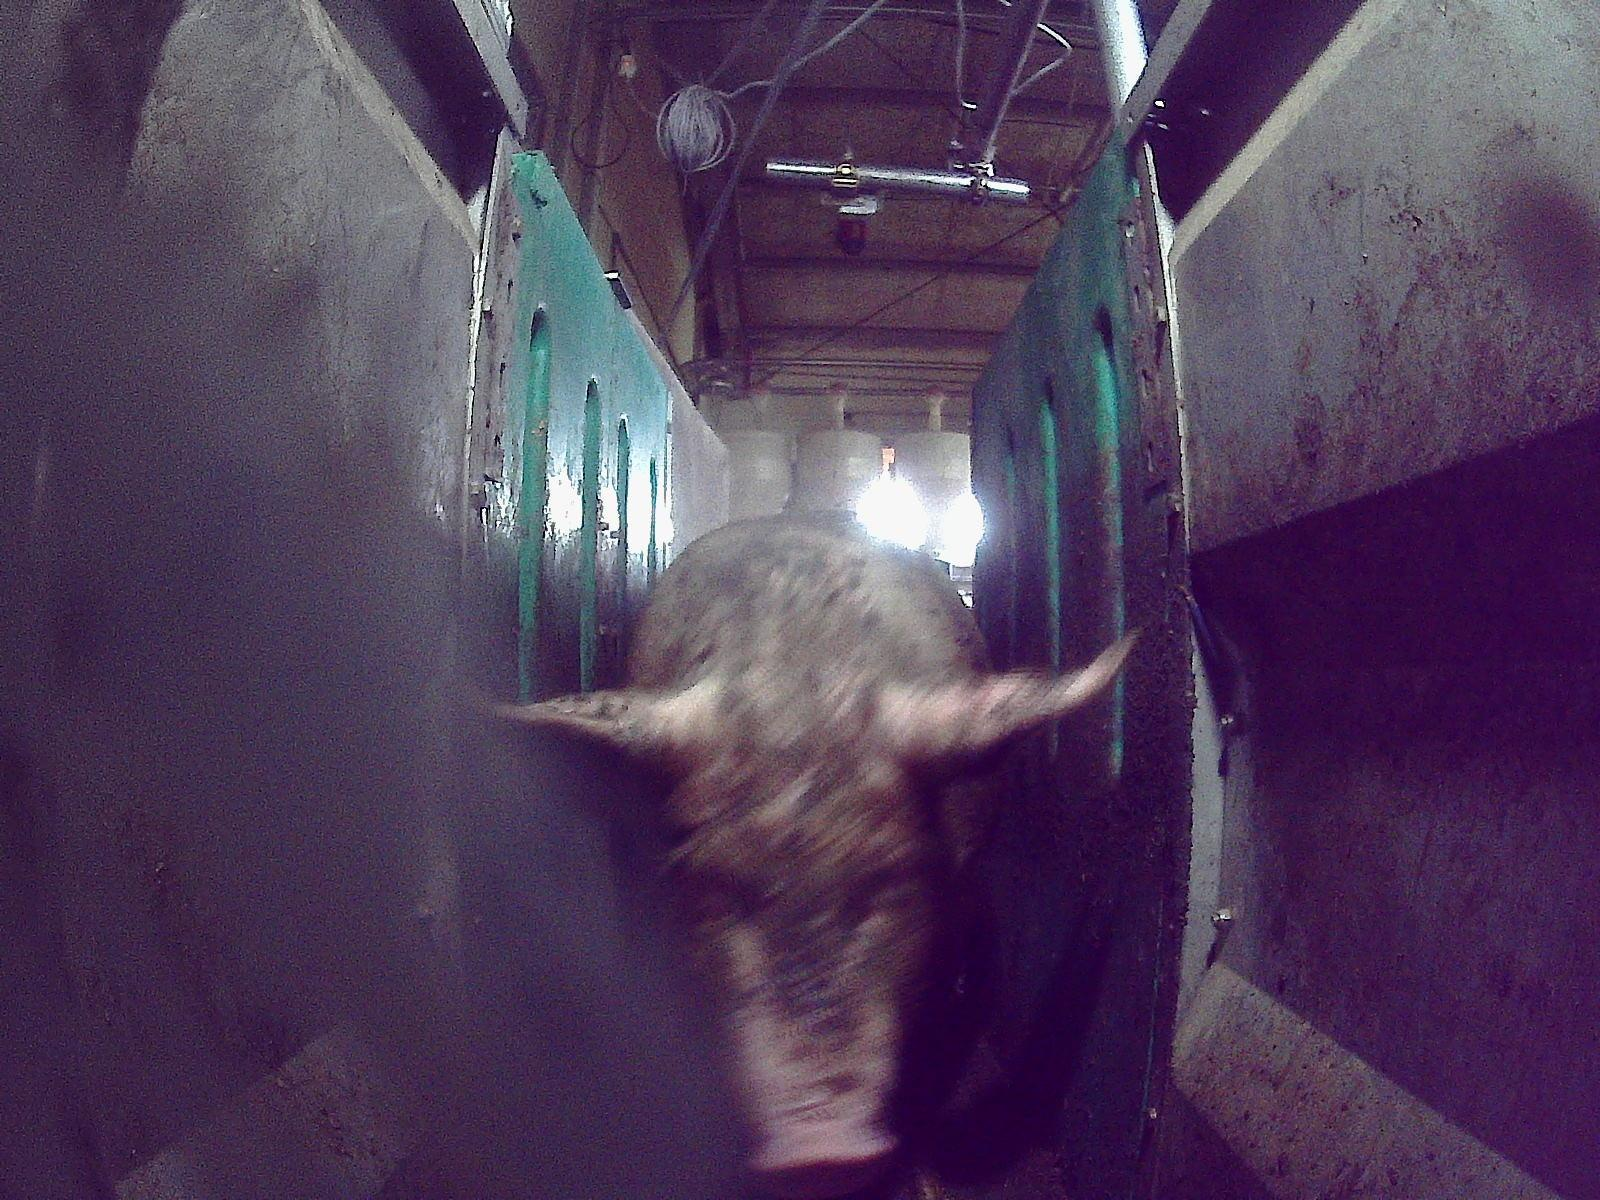Face: (644, 661, 954, 1199)
